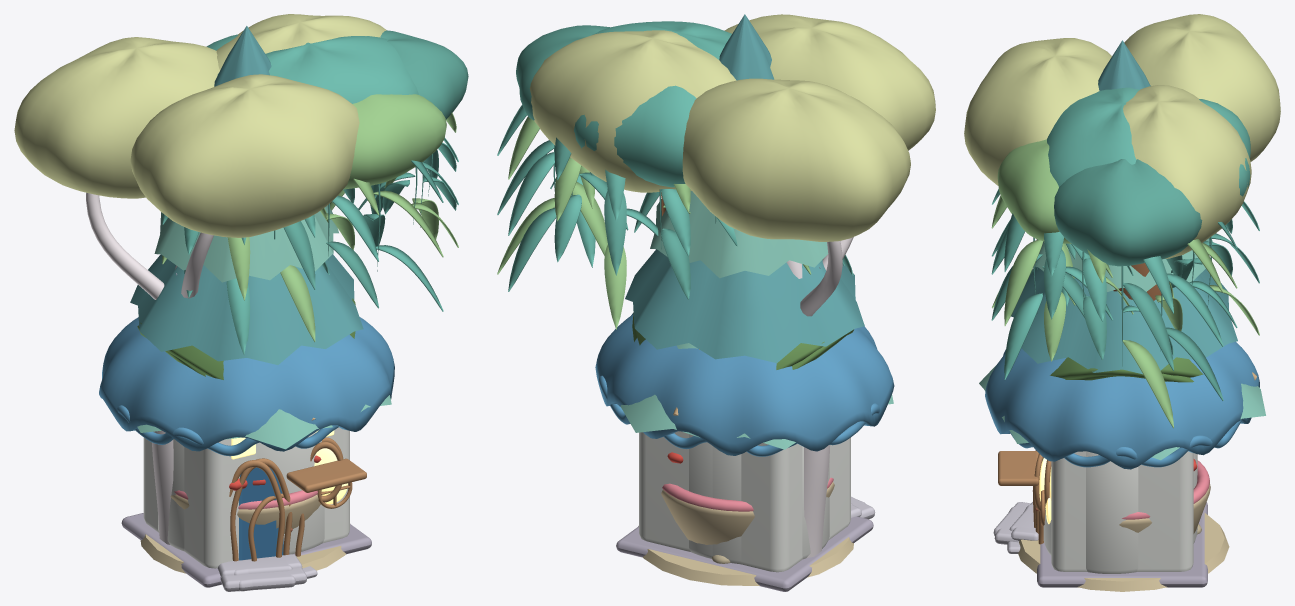
The model's file is owned-parts.glb.
The picture shows the model from 3 angles, left to right: view 1: azimuth 30°, elevation 25°; view 2: azimuth 150°, elevation 25°; view 3: azimuth 270°, elevation 25°; orthographic projection. The views are drawn at different scales.
Visible parts, largest first — view 1: silver birch / pale gold leaves, home / scalloped blue cap, spire grove / blue teal foliage, house / porcelain plaster (×2), willow / fresh mint tips, willow / pale blue jade leaves, willow / cool shade leaves, spire grove / bright jade foliage, house / honey wood (×3), silver birch / porcelain bark, path / light sandstone (×2), path / warm stone variation (+5 smaller); view 2: silver birch / pale gold leaves, home / scalloped blue cap, spire grove / blue teal foliage, house / porcelain plaster (×3), willow / pale blue jade leaves, willow / cool shade leaves, spire grove / bright jade foliage, willow / fresh mint tips, silver birch / porcelain bark, owned:l7, path / warm stone variation, owned:p17 (+1 smaller); view 3: silver birch / pale gold leaves, home / scalloped blue cap, willow / cool shade leaves, house / porcelain plaster (×2), willow / pale blue jade leaves, spire grove / blue teal foliage, willow / fresh mint tips, path / warm stone variation, spire grove / bright jade foliage, owned:p17, grove / blue silver leaf tips (×2), house / honey wood (+3 smaller).
Part boxes in pixels (x1,y1,x2,y2): silver birch / pale gold leaves: (14, 14, 386, 237); home / scalloped blue cap: (99, 317, 394, 451); spire grove / blue teal foliage: (130, 26, 363, 364); house / porcelain plaster (×2): (143, 427, 349, 568); willow / fresh mint tips: (162, 94, 458, 341); willow / pale blue jade leaves: (184, 34, 458, 355); willow / cool shade leaves: (162, 30, 468, 308); spire grove / bright jade foliage: (137, 205, 391, 449); house / honey wood (×3): (229, 437, 366, 561); silver birch / porcelain bark: (86, 192, 213, 544); path / light sandstone (×2): (217, 554, 307, 591); path / warm stone variation: (121, 513, 371, 587); silver birch / pale gold leaves: (529, 14, 935, 241); home / scalloped blue cap: (595, 313, 894, 455); spire grove / blue teal foliage: (625, 14, 864, 362); house / porcelain plaster (×3): (639, 431, 850, 572); willow / pale blue jade leaves: (497, 21, 853, 275); willow / cool shade leaves: (497, 25, 844, 299); spire grove / bright jade foliage: (620, 191, 893, 449); willow / fresh mint tips: (497, 116, 811, 329); silver birch / porcelain bark: (786, 237, 853, 557); owned:l7: (661, 477, 834, 544); path / warm stone variation: (616, 516, 873, 591); owned:p17: (638, 526, 853, 585); silver birch / pale gold leaves: (964, 14, 1280, 258); home / scalloped blue cap: (985, 341, 1259, 469); willow / cool shade leaves: (991, 159, 1259, 400); house / porcelain plaster (×2): (1043, 451, 1197, 573); willow / pale blue jade leaves: (991, 87, 1259, 379); spire grove / blue teal foliage: (1011, 40, 1237, 374); willow / fresh mint tips: (991, 139, 1259, 428); path / warm stone variation: (1037, 502, 1207, 587); spire grove / bright jade foliage: (979, 238, 1265, 460); owned:p17: (1018, 513, 1229, 591); grove / blue silver leaf tips (×2): (1010, 357, 1241, 467); house / honey wood: (998, 451, 1044, 544).
Bounding box in the file's own units: 1.97 × 2.43 × 1.36.
